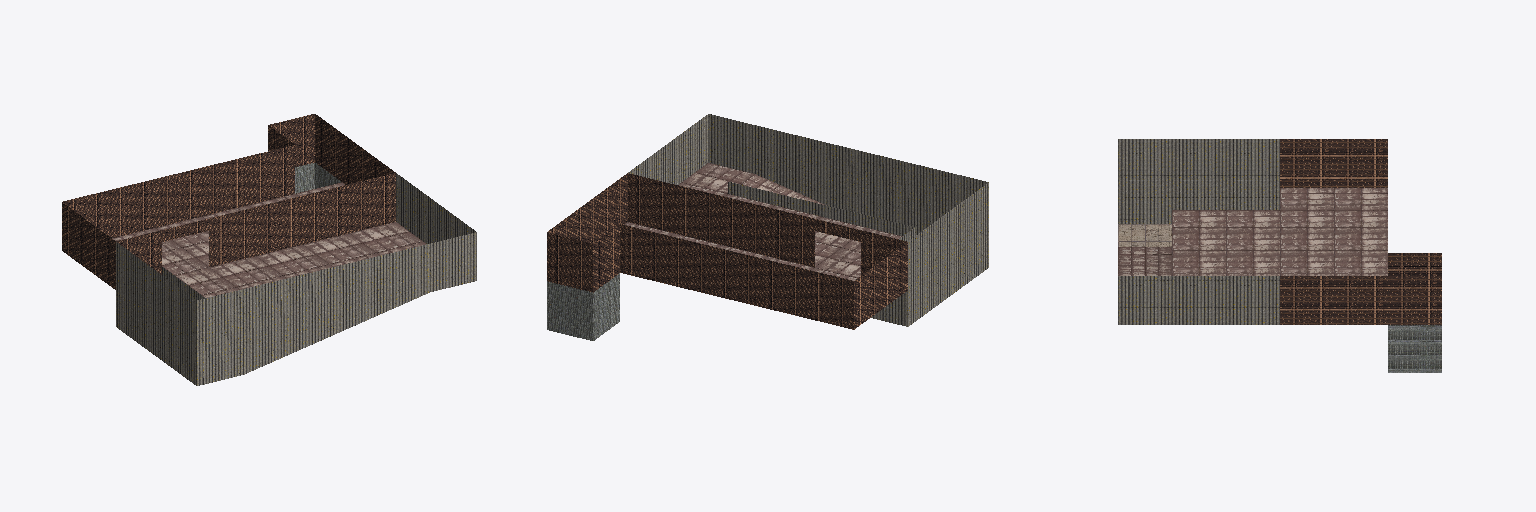
The picture shows the model from 3 angles: view 1: azimuth 30°, elevation 25°; view 2: azimuth 150°, elevation 25°; view 3: azimuth 270°, elevation 25°; orthographic projection.
Visible parts, largest first — view 1: Plane.002, Plane.004, Plane.003, Plane; view 2: Plane.004, Plane.002, Plane.003, Plane; view 3: Plane.002, Plane.003, Plane.004, Plane, Plane.001.
Part boxes in pixels (x1,y1,x2,y2): Plane.002: (116, 173, 476, 385); Plane.004: (62, 114, 395, 289); Plane.003: (112, 182, 425, 297); Plane: (295, 163, 340, 193); Plane.004: (547, 173, 907, 329); Plane.002: (628, 114, 988, 326); Plane.003: (624, 163, 902, 280); Plane: (547, 273, 619, 340); Plane.002: (1118, 139, 1279, 324); Plane.003: (1118, 188, 1387, 275); Plane.004: (1280, 139, 1441, 324); Plane: (1388, 325, 1441, 372); Plane.001: (1118, 224, 1171, 246).
Bounding box in the file's own units: 150 × 49.91 × 150.
Materials: 5 (5 with a texture image).